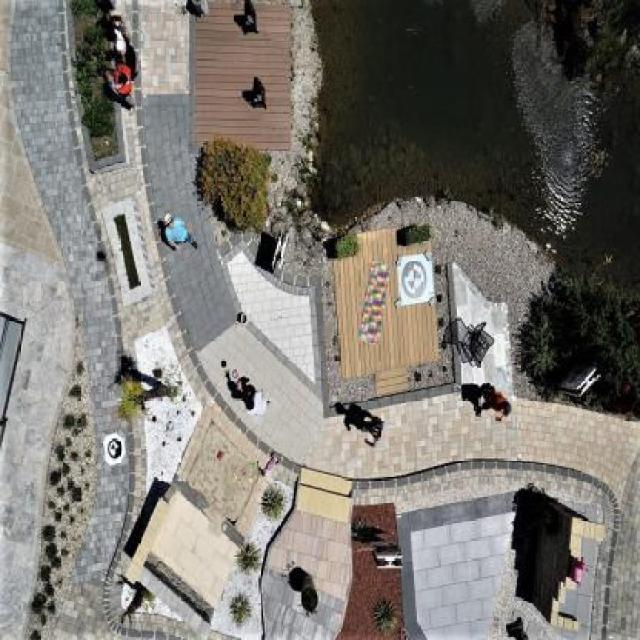Person: (151, 206, 204, 254), (473, 375, 513, 427), (354, 404, 388, 451), (238, 384, 274, 422)
